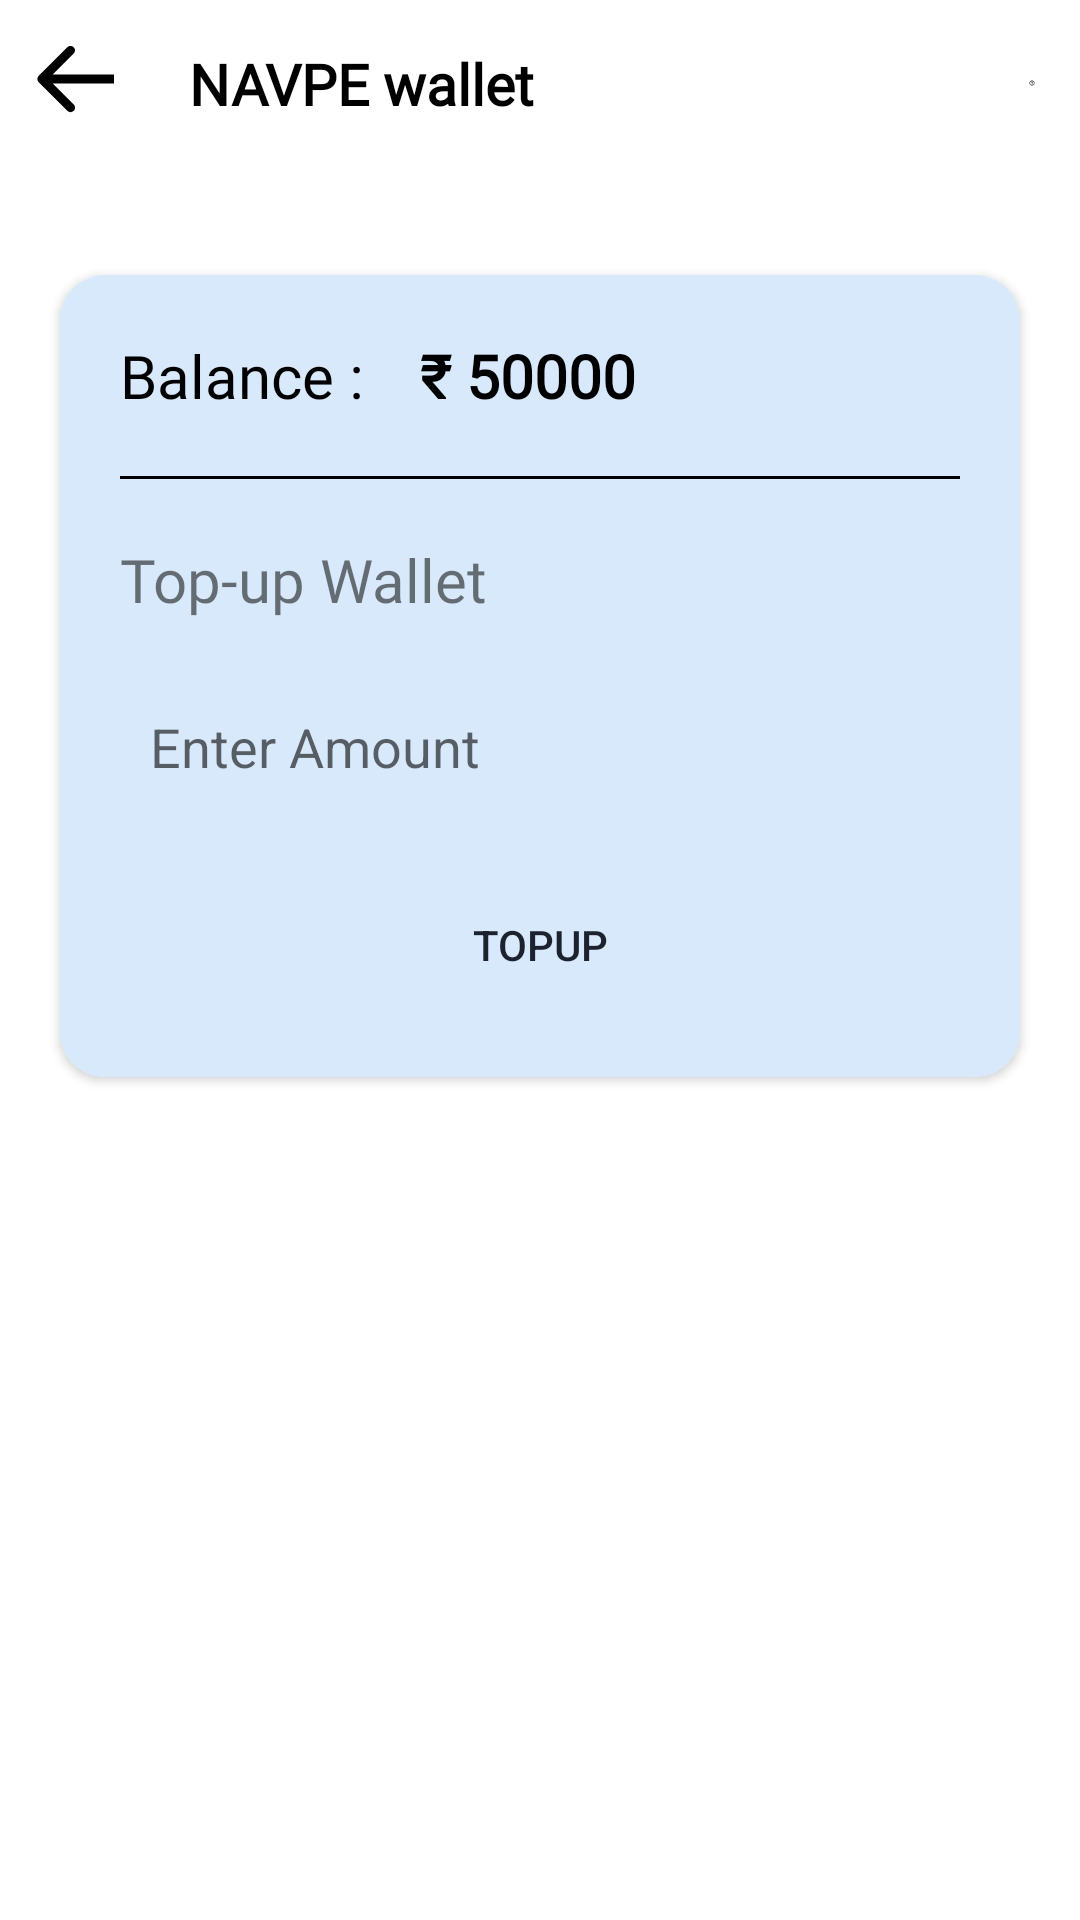

Screen size 1080 × 1920. Icon name, then its box in pixels as (x1, y1, x2, y2):
Back: (37, 46, 114, 113)
